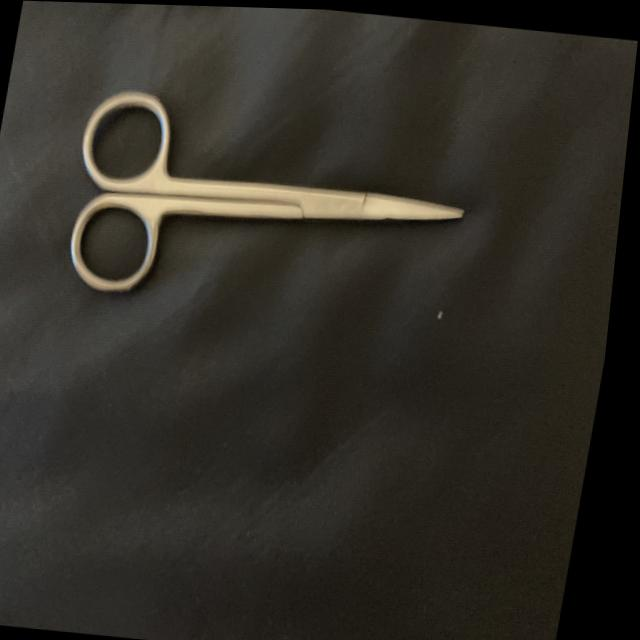scissor: (43, 73, 503, 332)
